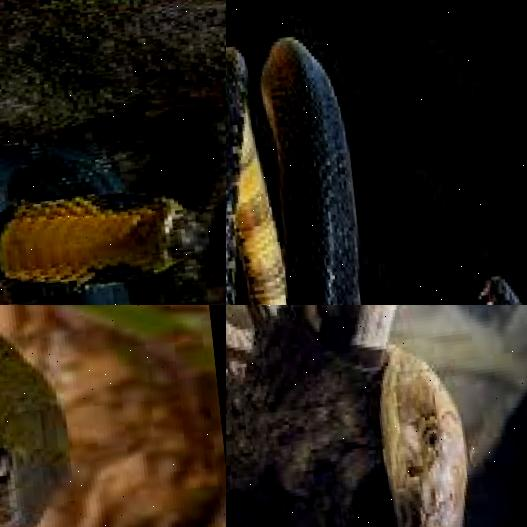snake: (226, 21, 527, 305), (0, 0, 226, 305), (226, 305, 496, 527), (0, 305, 74, 527)
